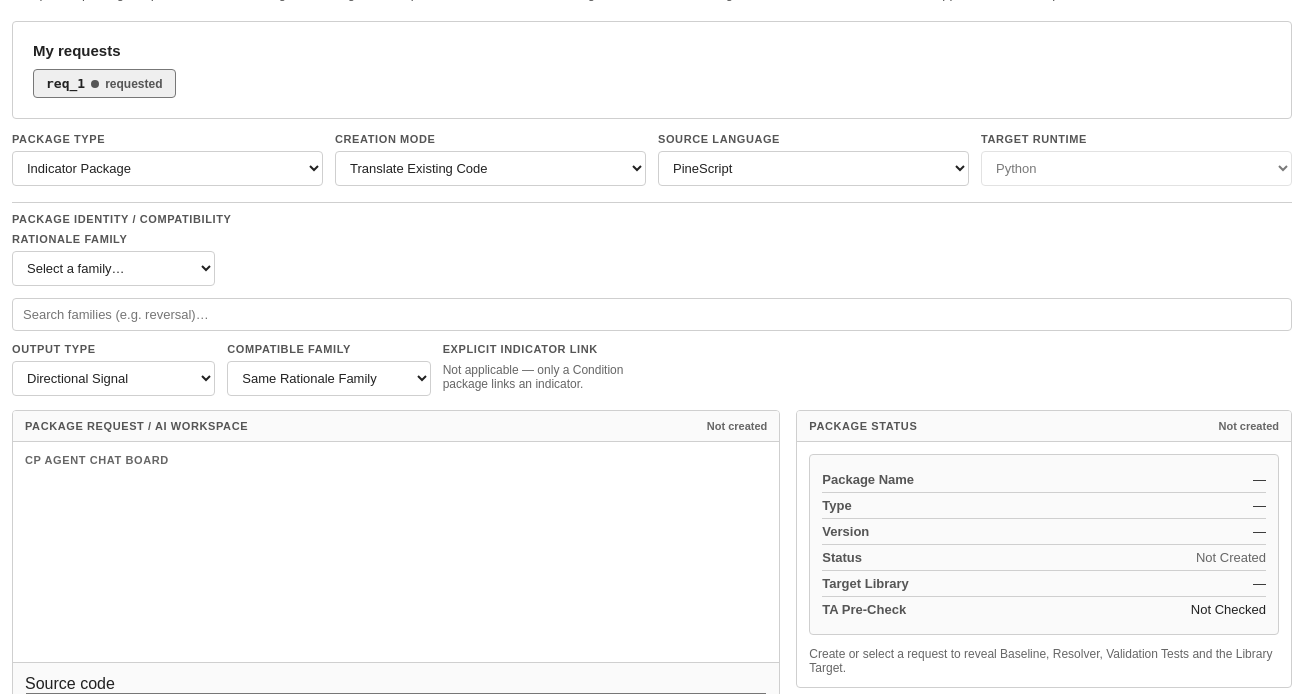
Create Package page › sends approve with the draft head token and shows the Admin denial verbatim
expect the text "req_1" is shown: met, box x1=46 y1=76 x2=85 y2=91
Click the button "req_1 requested" at [104, 84], box x1=33 y1=69 x2=176 y2=98
(page scrolled)
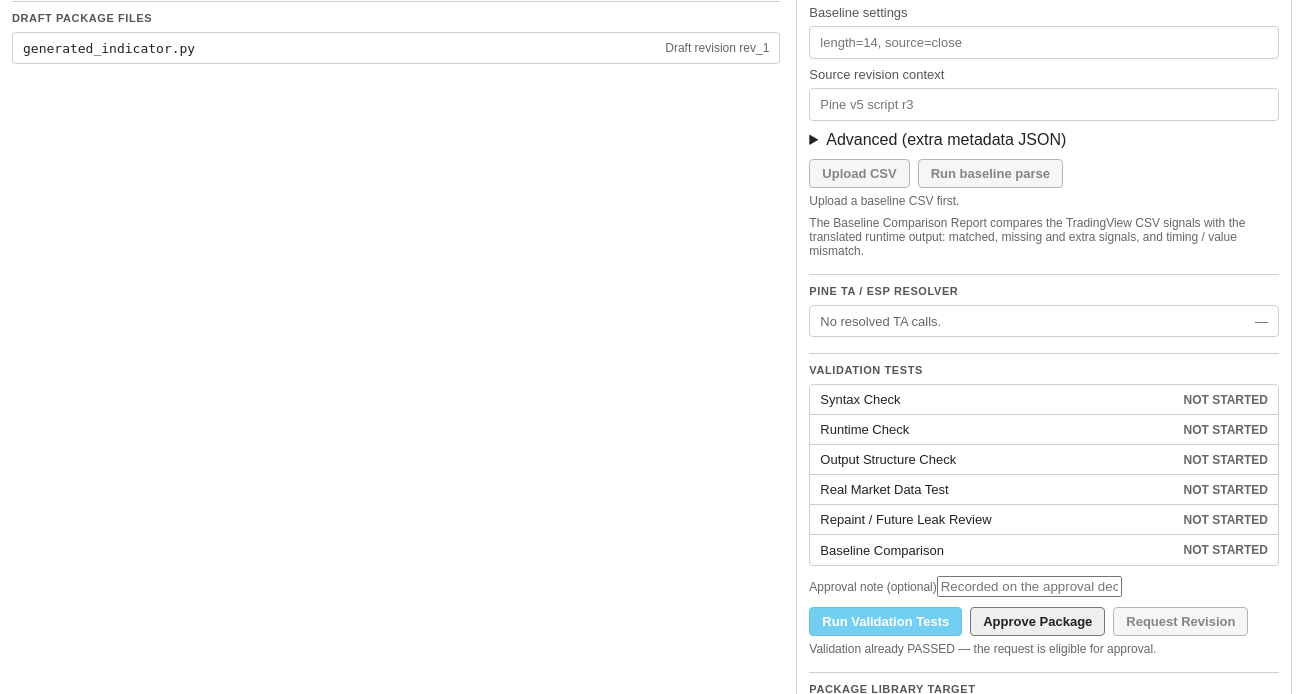
expect the button "Approve Package" is enabled: met
Click the button "Approve Package" at [1038, 622], box x1=970 y1=607 x2=1105 y2=636
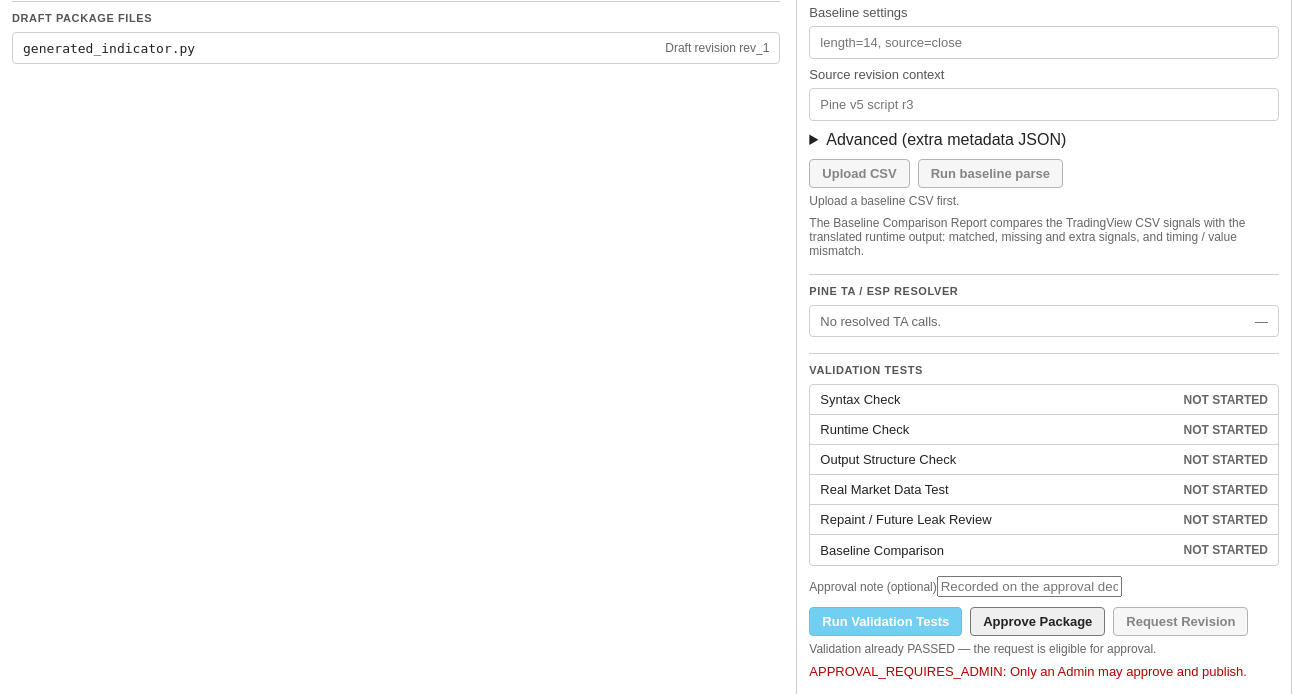
expect the text "APPROVAL_REQUIRES_ADMIN: Only an Admin may approve and publish." is shown: met, box x1=809 y1=664 x2=1279 y2=679
